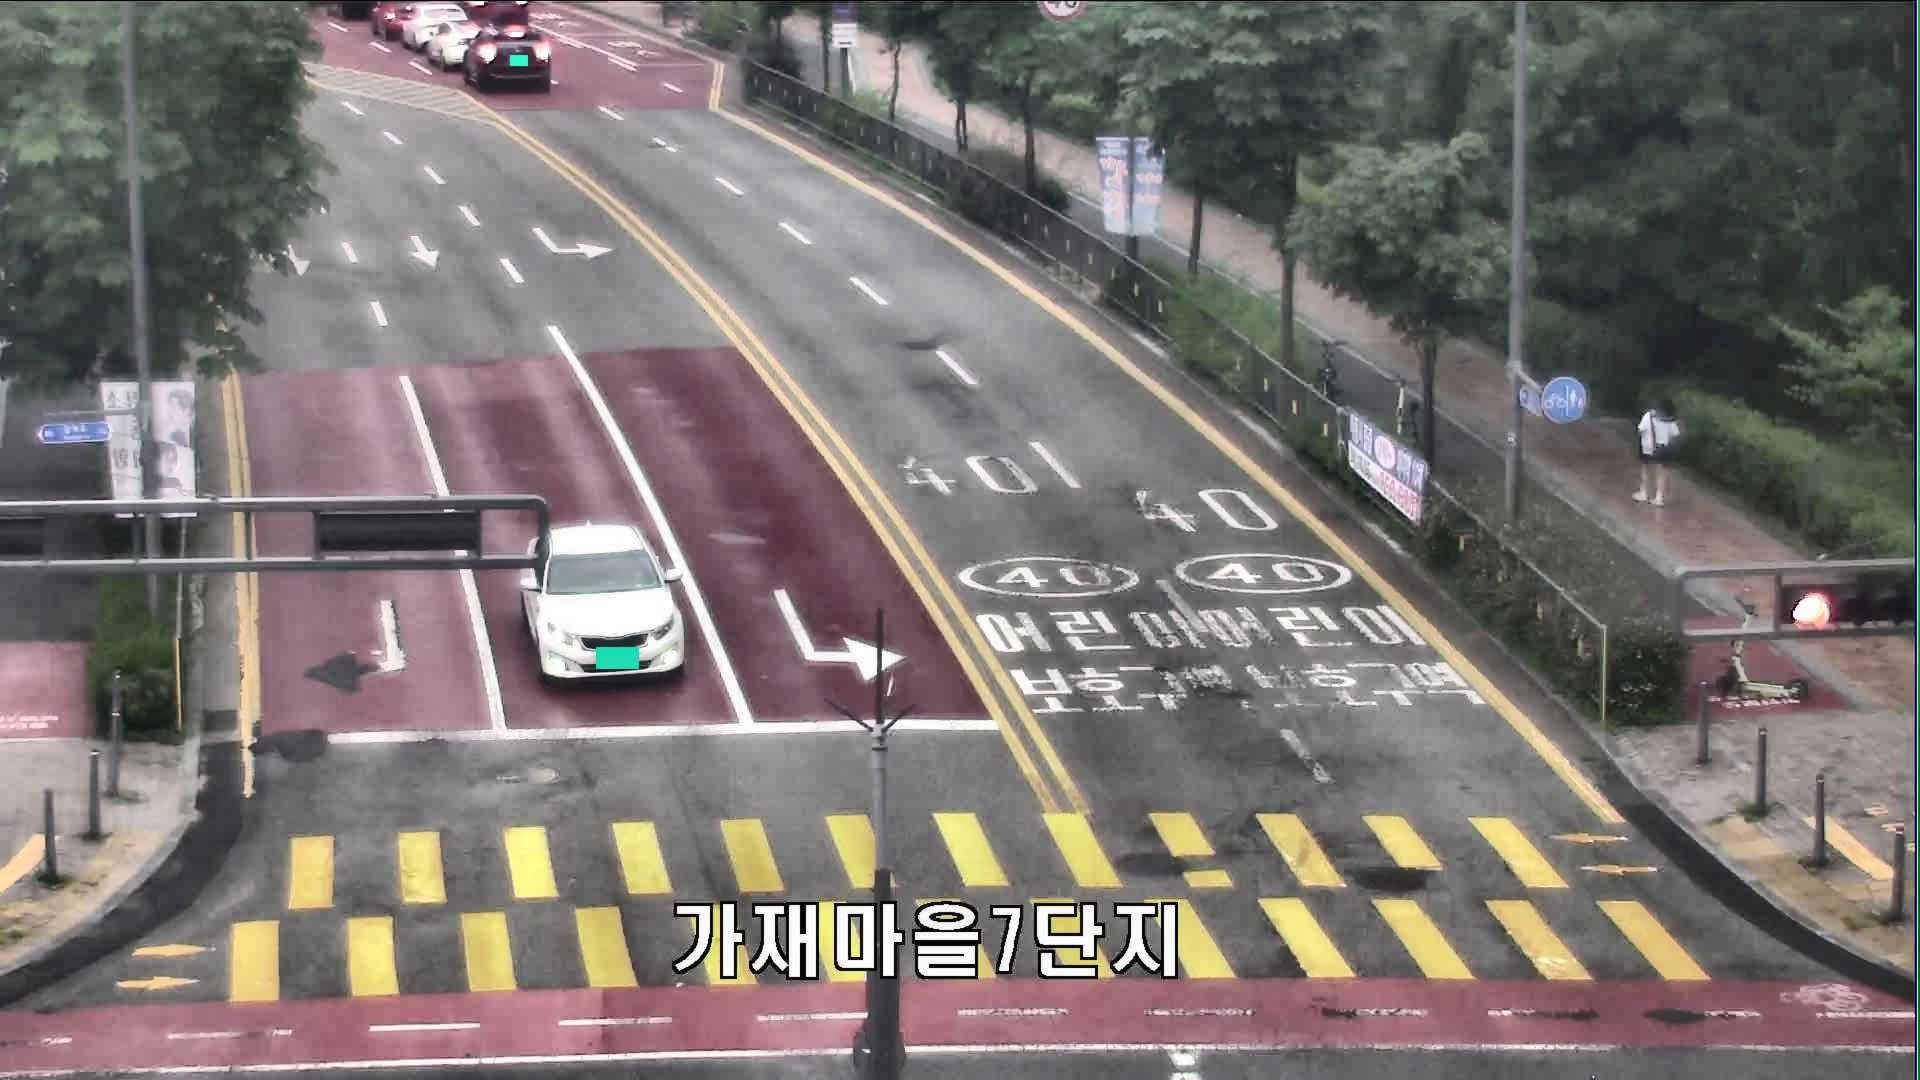sidewalk: (1634, 396, 1683, 509)
